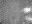person: (21, 8, 31, 16), (26, 19, 31, 23)
